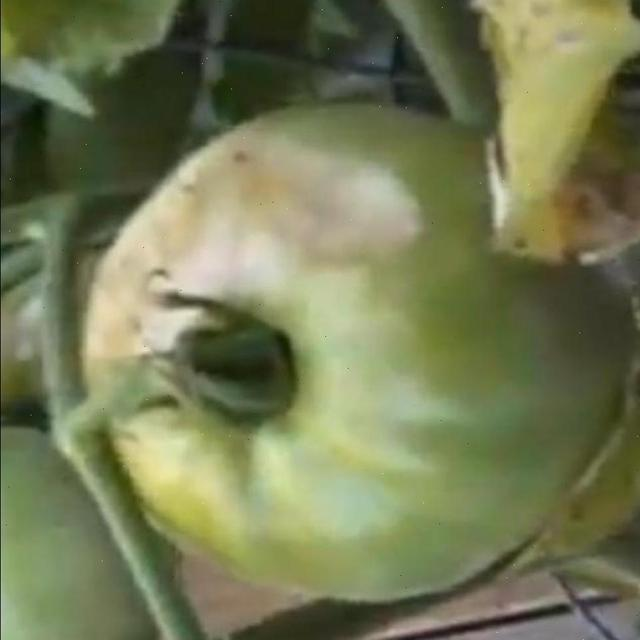Sunscald Fruit: (60, 84, 304, 234)
